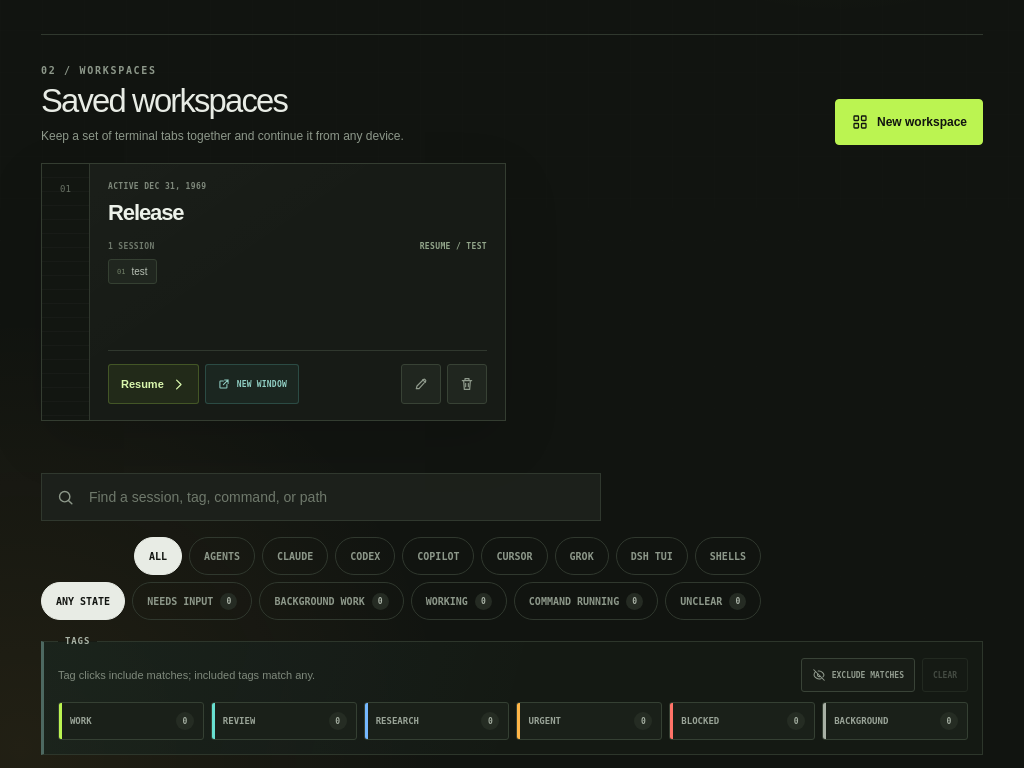
Test: session classification › updates the badge immediately when its saved workspace is deleted
(page scrolled)
What coordinates should you click on to do the following:
click the button named "Delete workspace Release"
I would click on:
 (467, 384)
Its box is 447,364 -> 487,404.
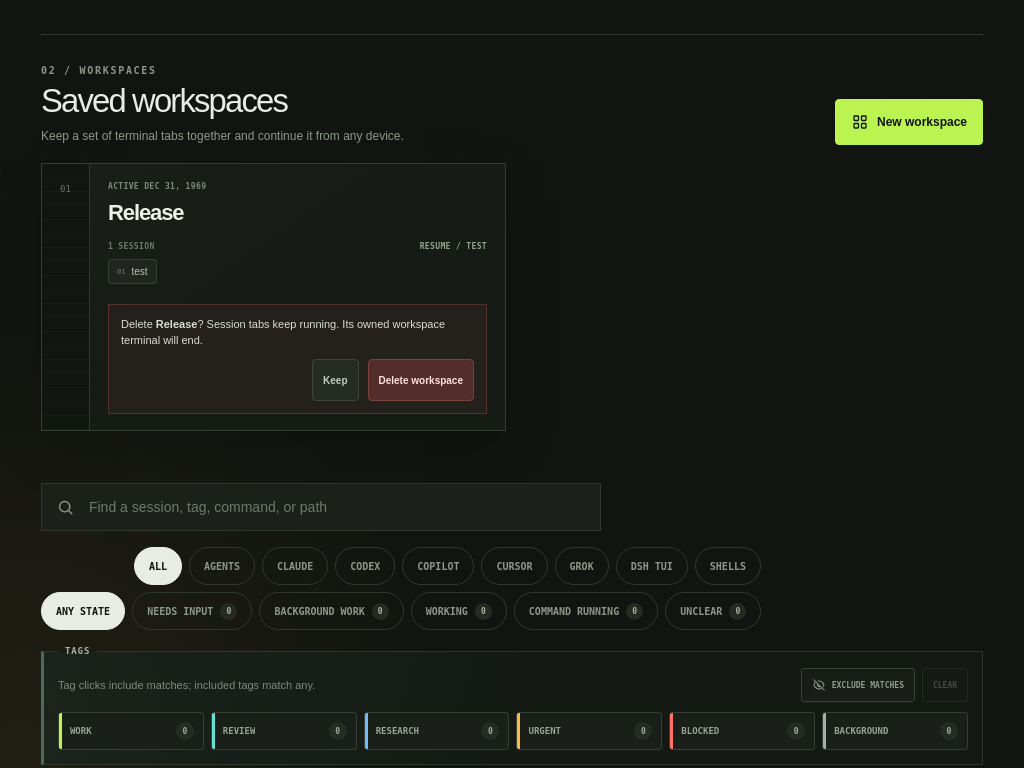
What coordinates should you click on to do the following:
click the button "Delete workspace"
I would click on:
 (421, 380)
Its box is 368,359 -> 474,401.
(page scrolled)
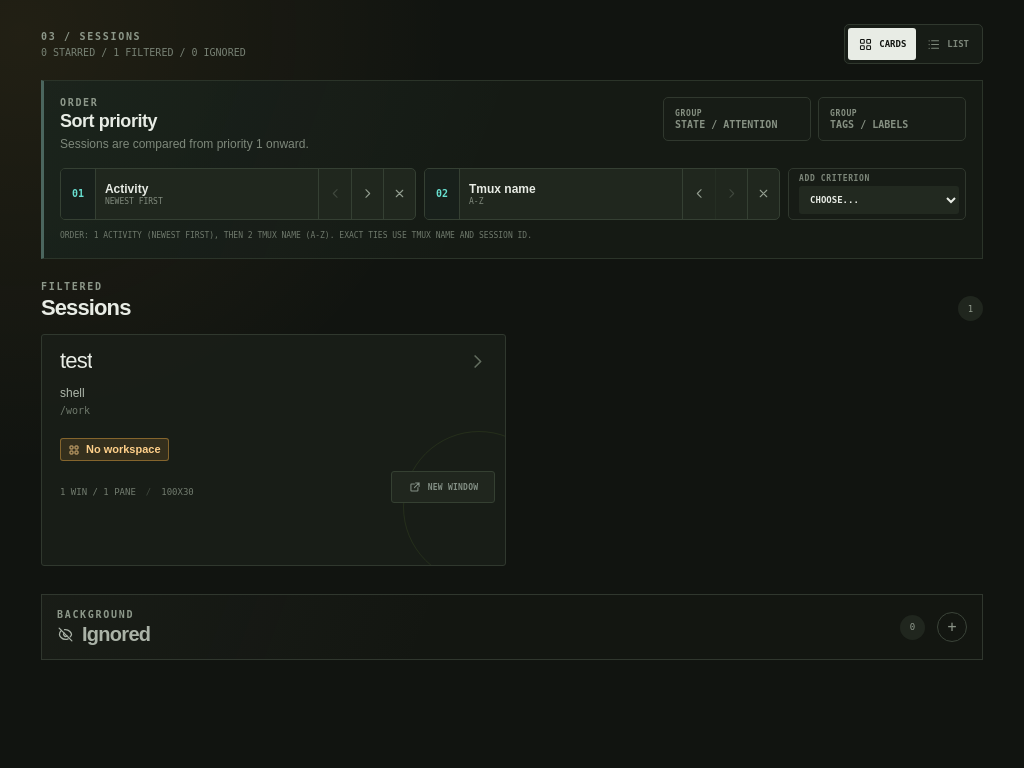
Result: the element labelled "No workspace" is shown at 60,438 -> 169,461
